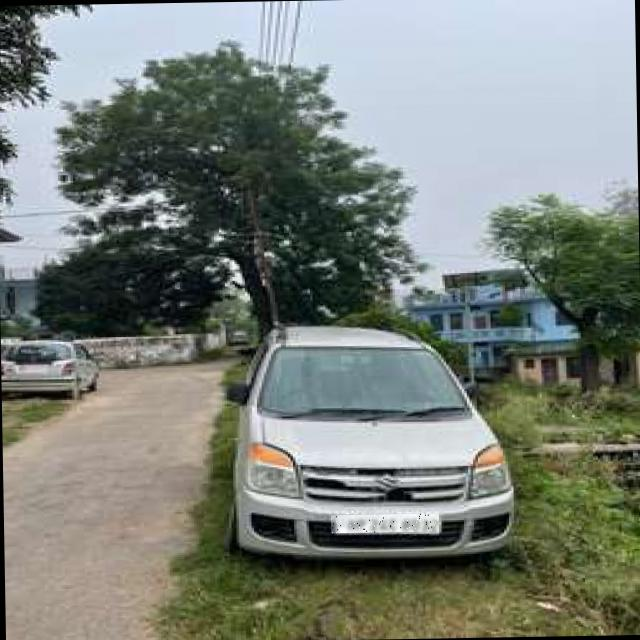Plate: (332, 514, 440, 534)
